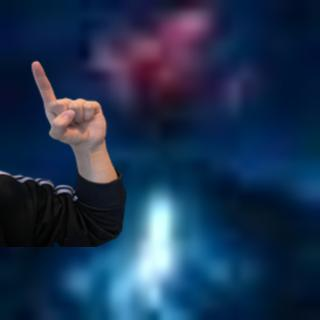IRRITATED: (27, 57, 111, 149)
